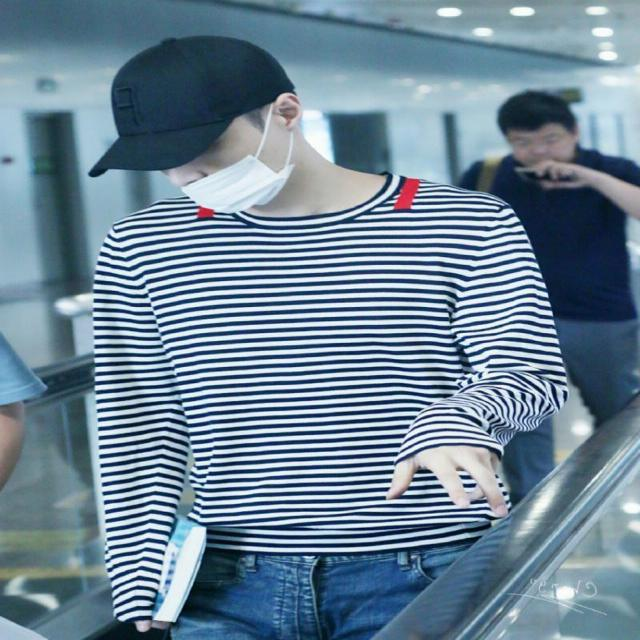face: (93, 29, 312, 230), (492, 88, 585, 174)
